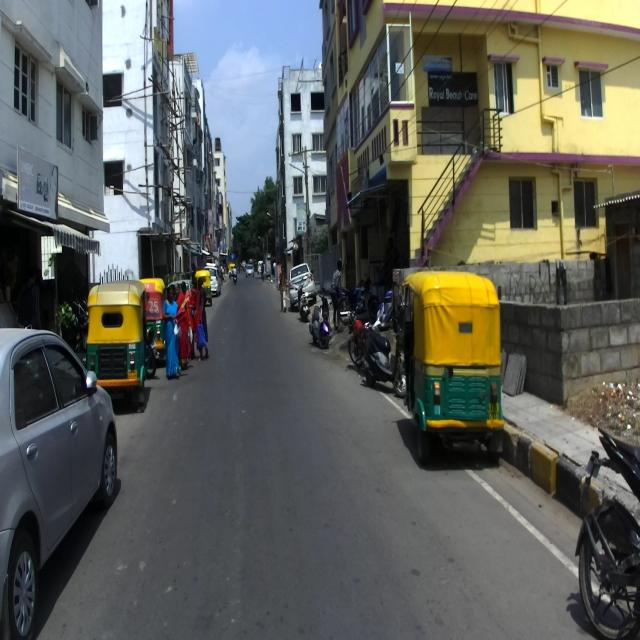autorickshaw: (398, 268, 505, 467), (85, 279, 150, 412)
car: (0, 327, 118, 640), (287, 262, 316, 310), (203, 263, 222, 295)
motorcycle: (574, 425, 640, 636), (347, 299, 381, 368)
scooter: (360, 325, 407, 398)
